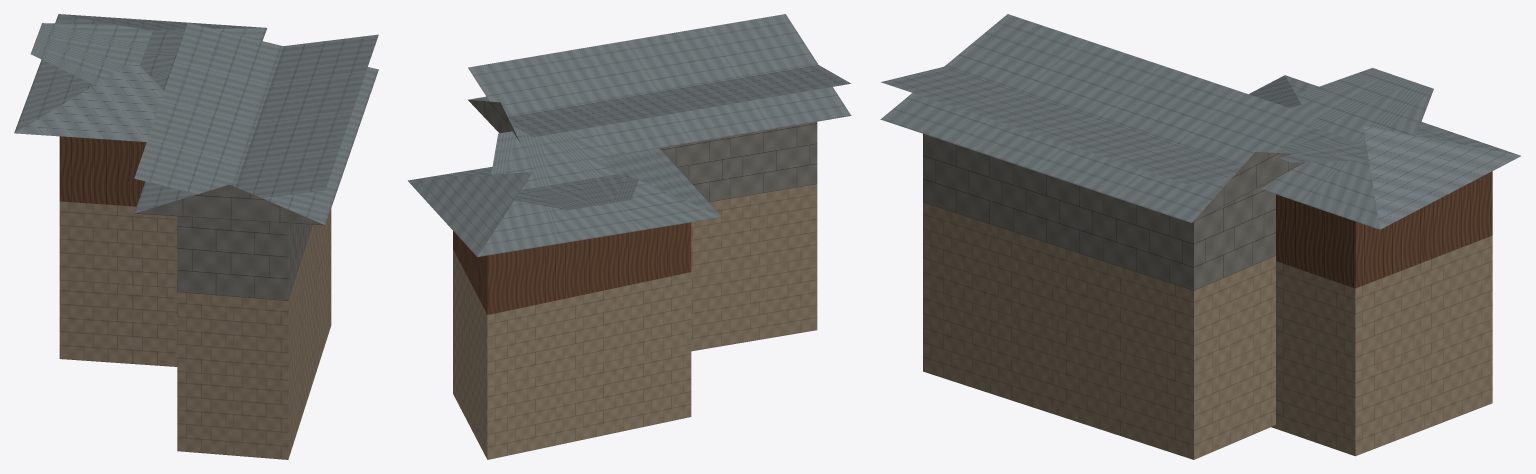
The model's file is bld_c32_-24_532.gltf.
3 renders of one model, left to right at view 1: azimuth 30°, elevation 25°; view 2: azimuth 150°, elevation 25°; view 3: azimuth 270°, elevation 25°, orthographic. The views are drawn at different scales.
Parts seen in each view (by area): view 1: bld_c32_-24_532; view 2: bld_c32_-24_532; view 3: bld_c32_-24_532.
Part boxes in pixels (x1,y1,x2,y2): bld_c32_-24_532: [14, 14, 378, 459]; bld_c32_-24_532: [408, 14, 851, 459]; bld_c32_-24_532: [880, 14, 1520, 459].
Bounding box in the file's own units: 9.9 × 8.1 × 15.59.
Materials: 5 (5 with a texture image).
